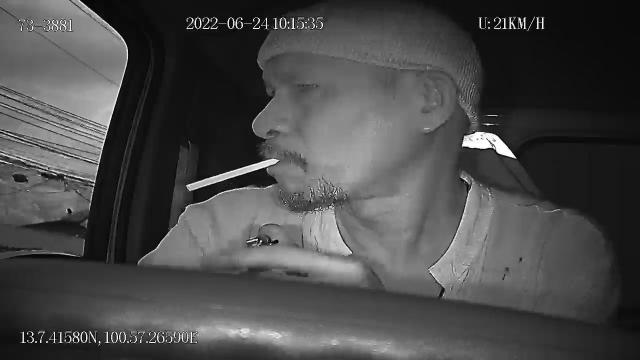Smoking: (182, 150, 284, 196)
